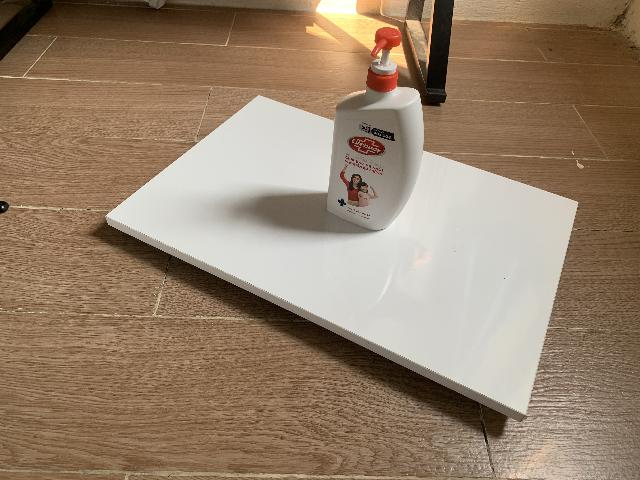life-buoy: (326, 27, 424, 232)
